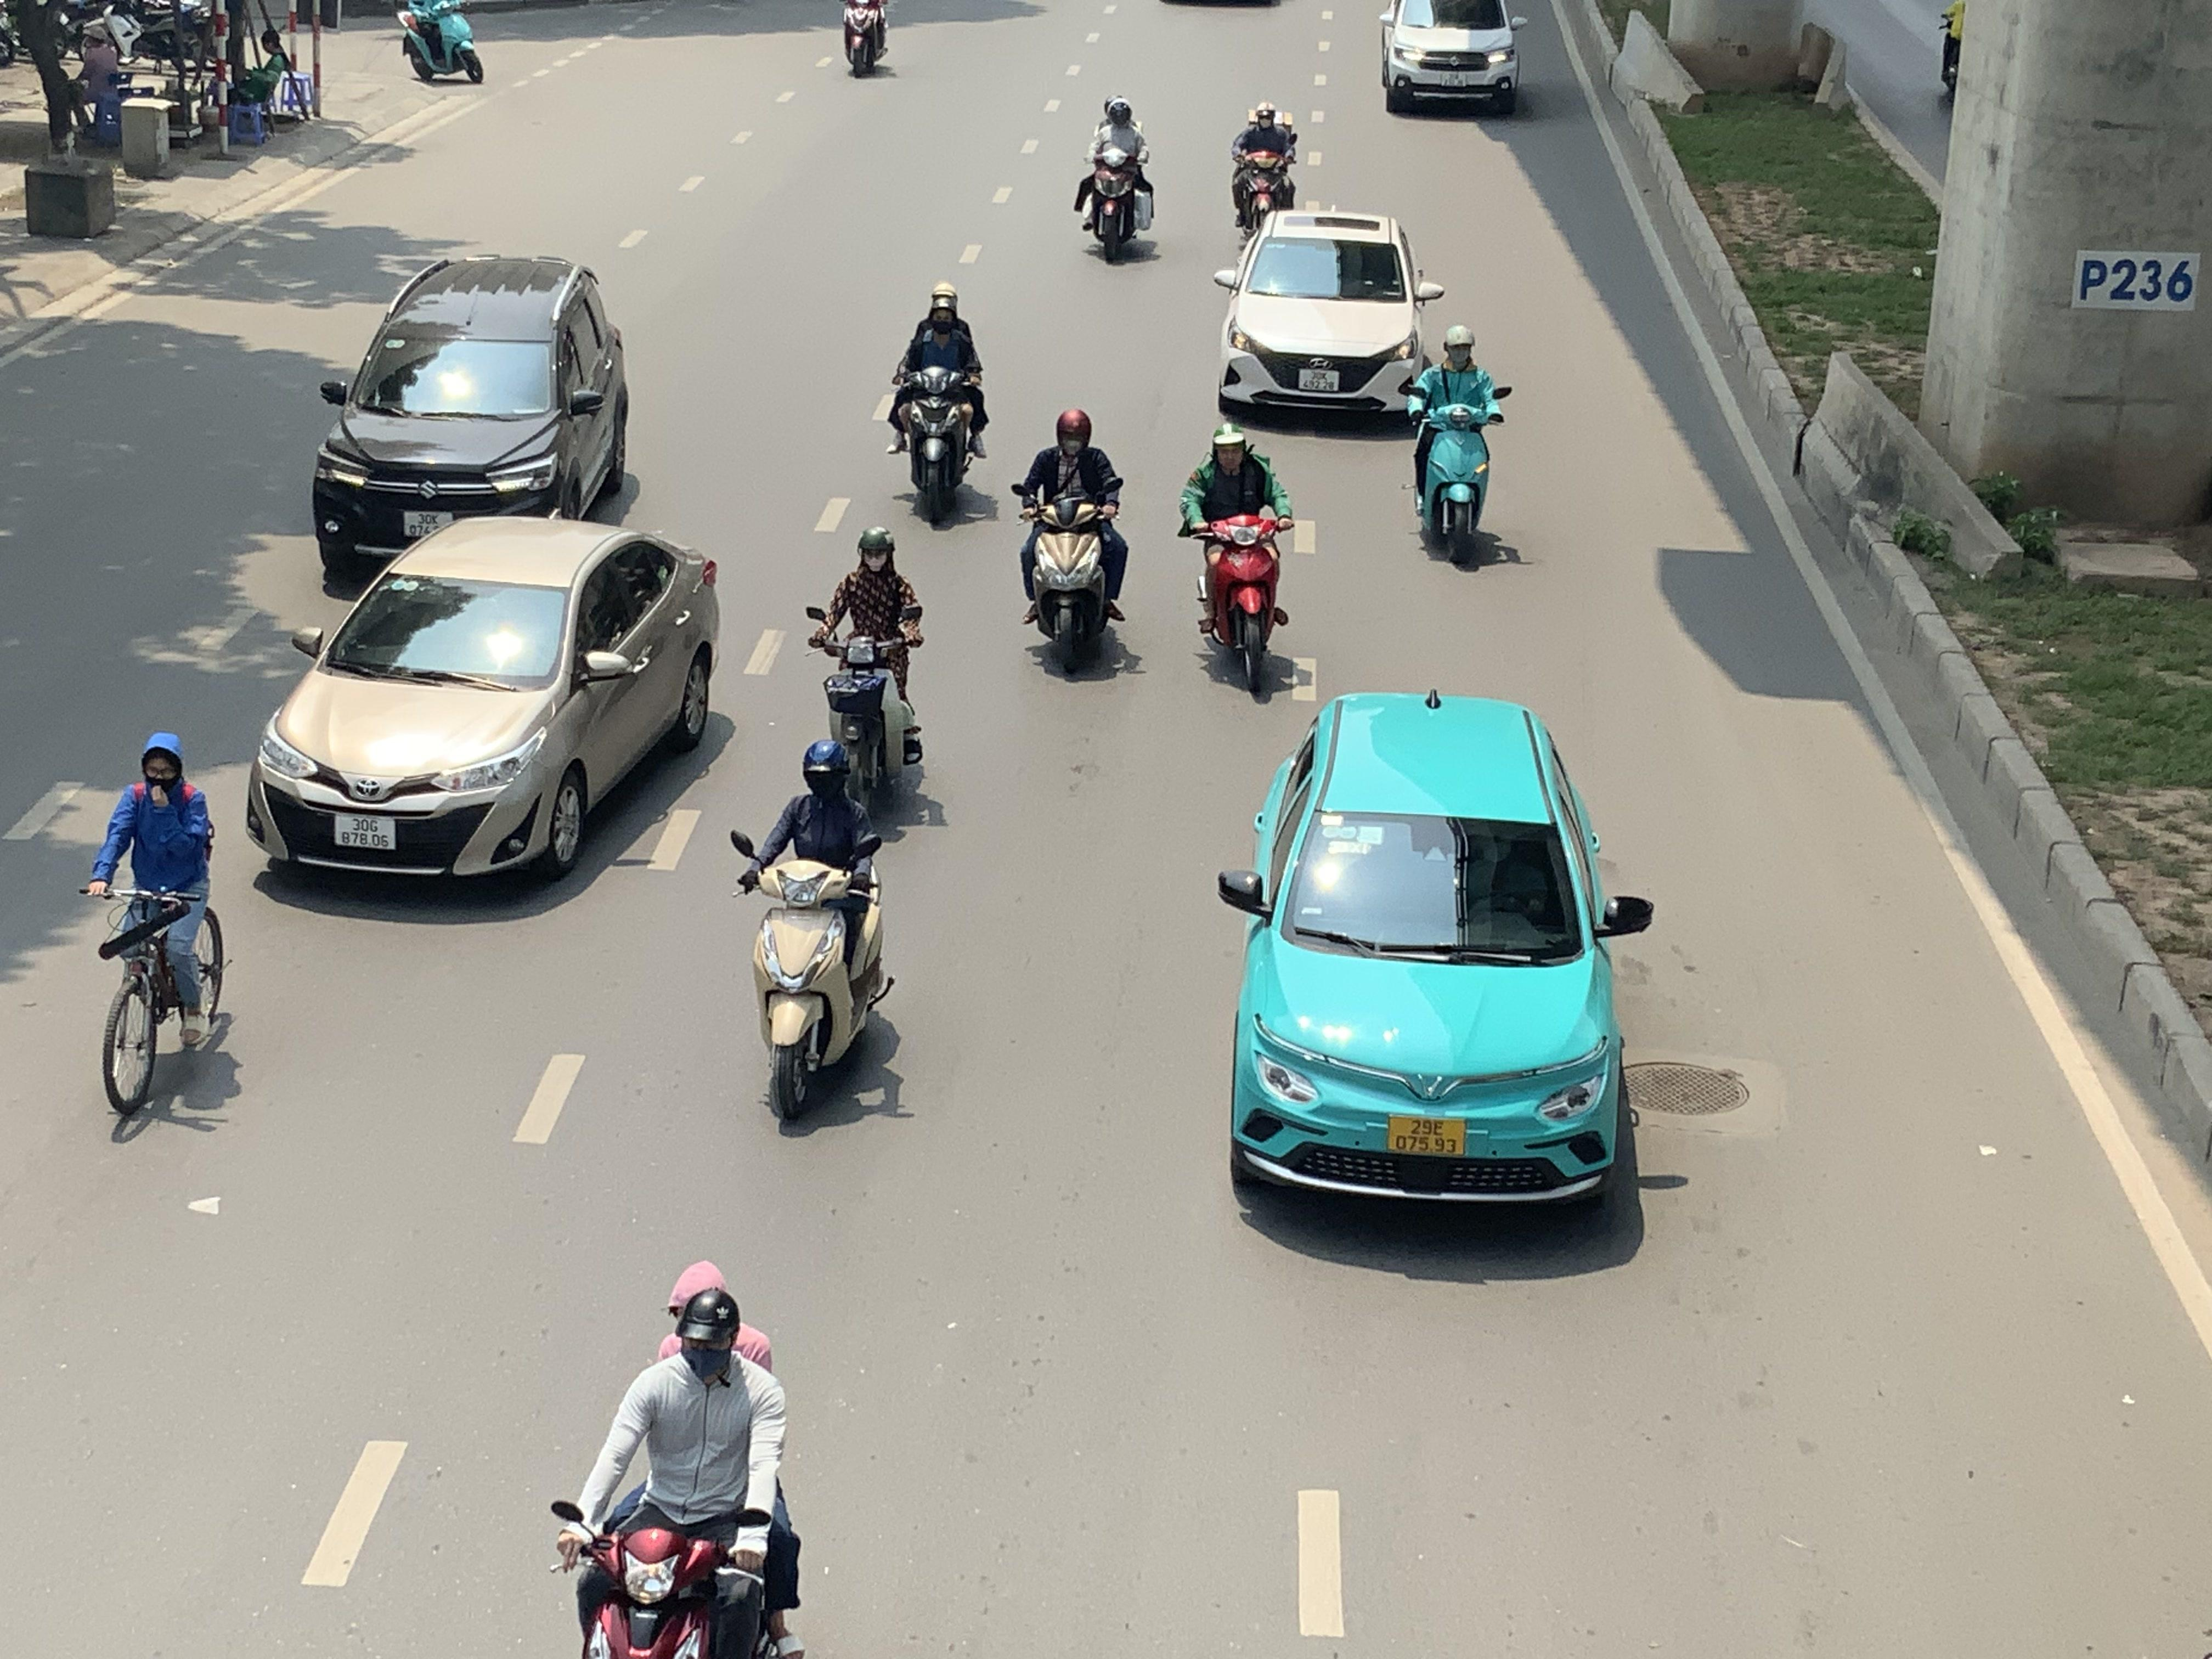BSV: (1386, 1115, 1467, 1155), (334, 812, 395, 849), (404, 512, 455, 537), (1299, 369, 1339, 392)
car: (1216, 690, 1655, 1218), (244, 514, 723, 892), (310, 254, 634, 598), (1211, 209, 1447, 423), (1378, 0, 1524, 117)
motorbike: (550, 1262, 808, 1659), (732, 735, 897, 1133), (85, 730, 235, 1136), (808, 526, 925, 812), (1183, 420, 1292, 706), (1015, 406, 1127, 680), (1404, 324, 1508, 570), (888, 284, 988, 530), (1075, 96, 1157, 265), (1230, 101, 1298, 244), (397, 0, 484, 84), (840, 0, 892, 78)
